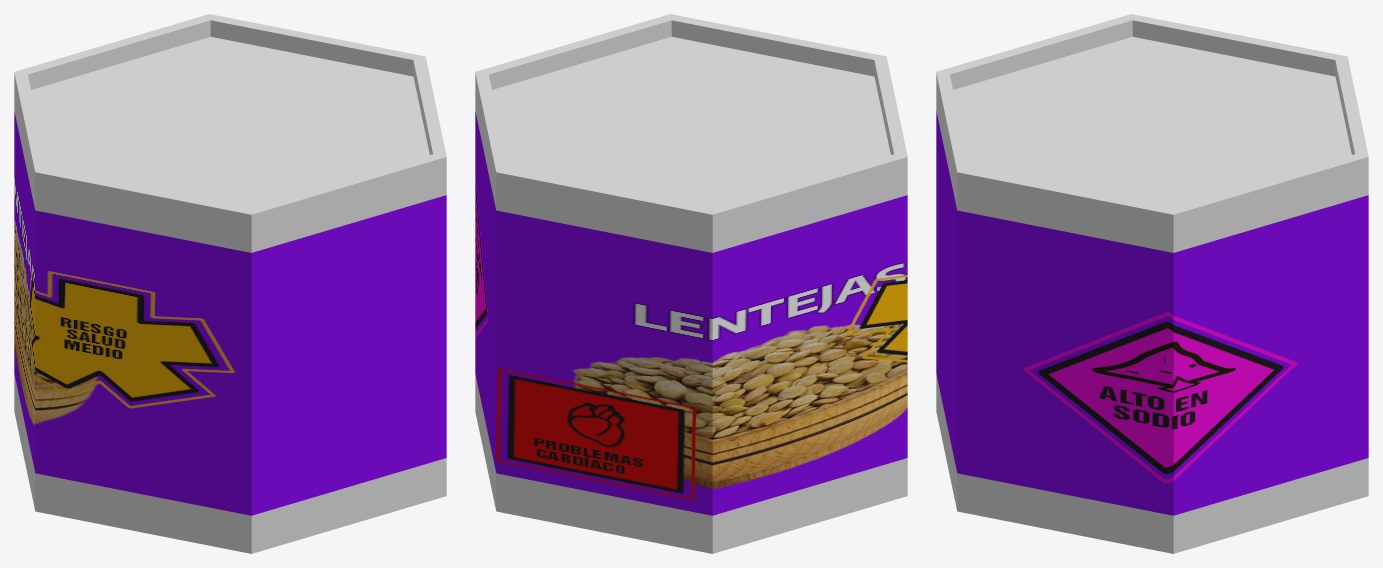
Rendered from lenteja.fbx.
3 renders of one model, left to right at view 1: azimuth 30°, elevation 25°; view 2: azimuth 150°, elevation 25°; view 3: azimuth 270°, elevation 25°, orthographic.
Visible parts, largest first — view 1: Arvejas; view 2: Arvejas; view 3: Arvejas.
Part boxes in pixels (x1,y1,x2,y2): Arvejas: (14, 14, 446, 553); Arvejas: (475, 14, 907, 553); Arvejas: (936, 14, 1368, 553).
Bounding box in the file's own units: 5.52 × 4.35 × 5.02.
2 materials, 1 textured.
